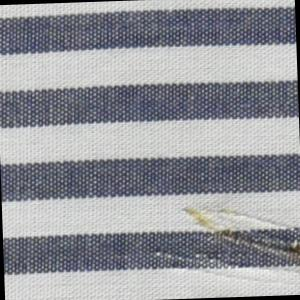Damage: (144, 198, 300, 298)
Oil Stain: (180, 202, 300, 272)
